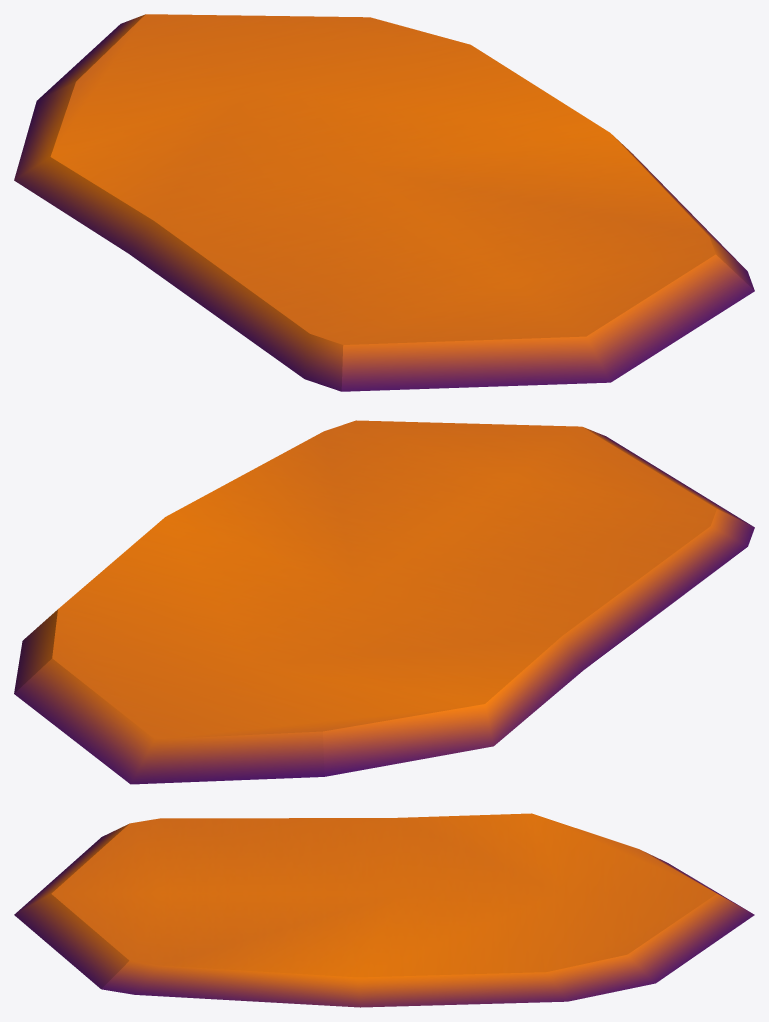
Rendered from MOD_Path.fbx.
3 views of the same model, one above another, from view 1: azimuth 30°, elevation 25°; view 2: azimuth 150°, elevation 25°; view 3: azimuth 270°, elevation 25° (orthographic). The views are drawn at different scales.
Visible parts, largest first — view 1: MOD_Path; view 2: MOD_Path; view 3: MOD_Path.
Part boxes in pixels (left/top/right/bottom): MOD_Path: left=14, top=14, right=754, bottom=391; MOD_Path: left=14, top=420, right=754, bottom=784; MOD_Path: left=14, top=813, right=754, bottom=1007.
Bounding box in the file's own units: 40 × 2.18 × 69.1.
Materials: 1 (1 with a texture image).
